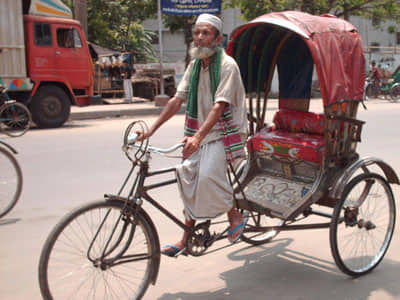Rickshaw: (27, 11, 398, 293)
